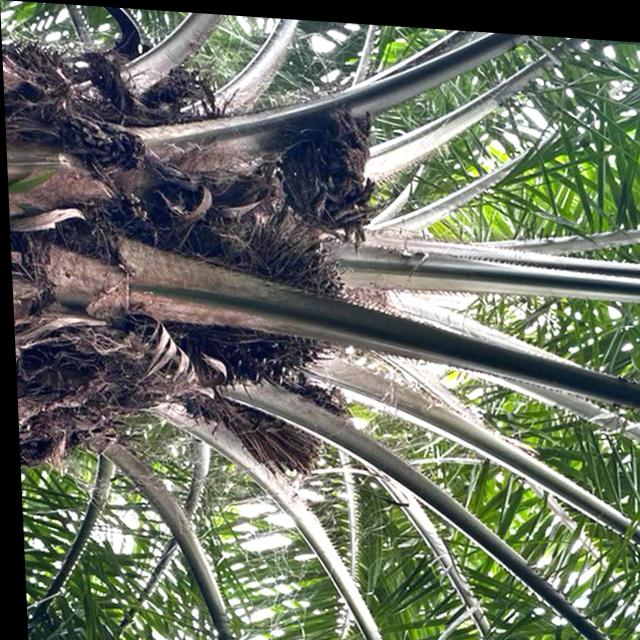almost: (160, 239, 353, 396)
